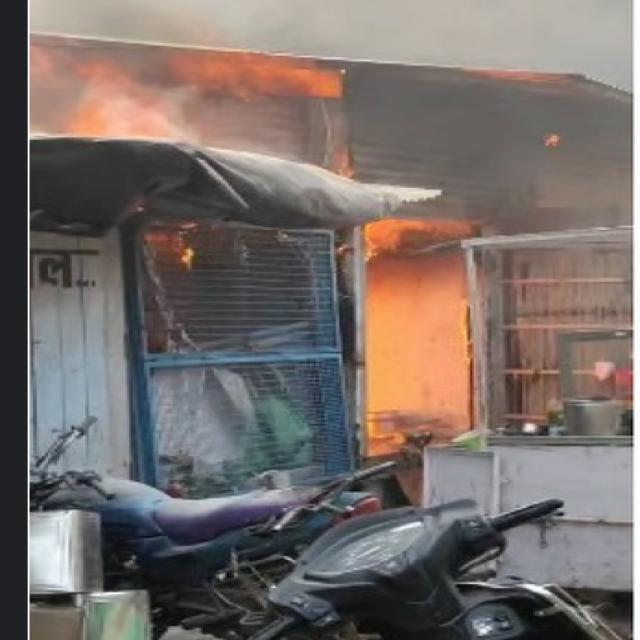fire: (29, 44, 201, 139), (166, 48, 342, 101), (367, 217, 472, 263), (139, 221, 197, 272), (465, 66, 582, 88), (367, 408, 409, 455)
